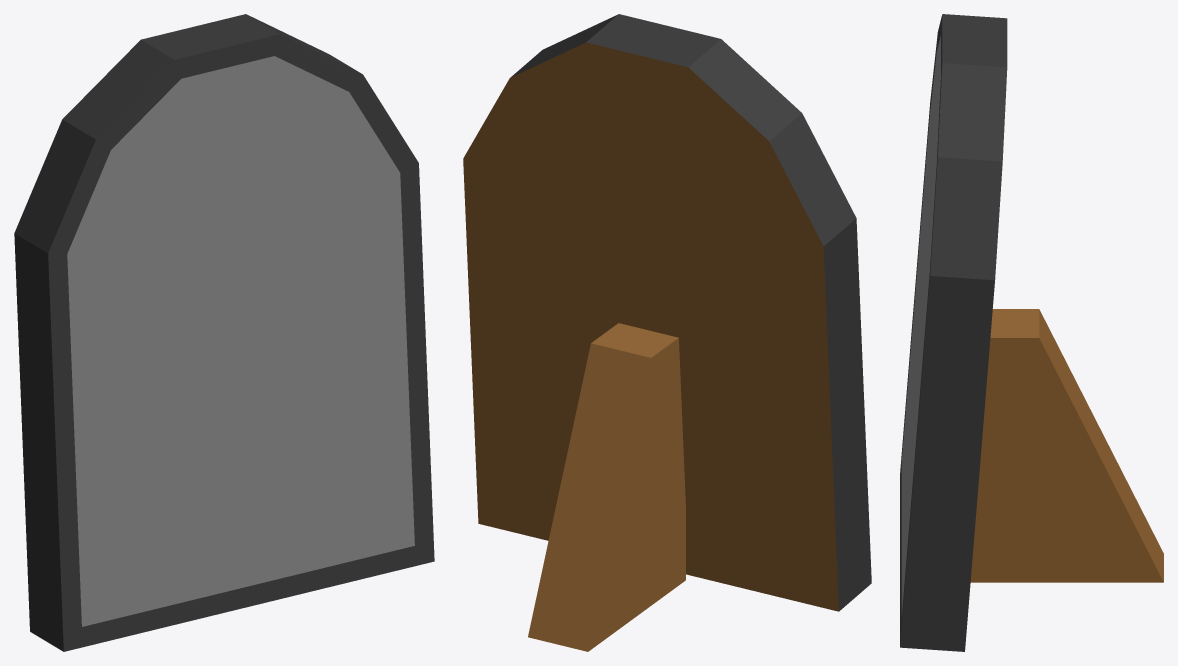
Rendered from cutoutGrave.fbx.
3 views of the same model, side by side, from view 1: azimuth 30°, elevation 25°; view 2: azimuth 150°, elevation 25°; view 3: azimuth 270°, elevation 25° (orthographic). The views are drawn at different scales.
Visible parts, largest first — view 1: Cutout Grave; view 2: Cutout Grave; view 3: Cutout Grave.
Part boxes in pixels (x1,y1,x2,y2): Cutout Grave: (14,14,434,651); Cutout Grave: (463,14,871,651); Cutout Grave: (900,14,1163,651).
Bounding box in the file's own units: 68.72 × 44.09 × 97.64.
